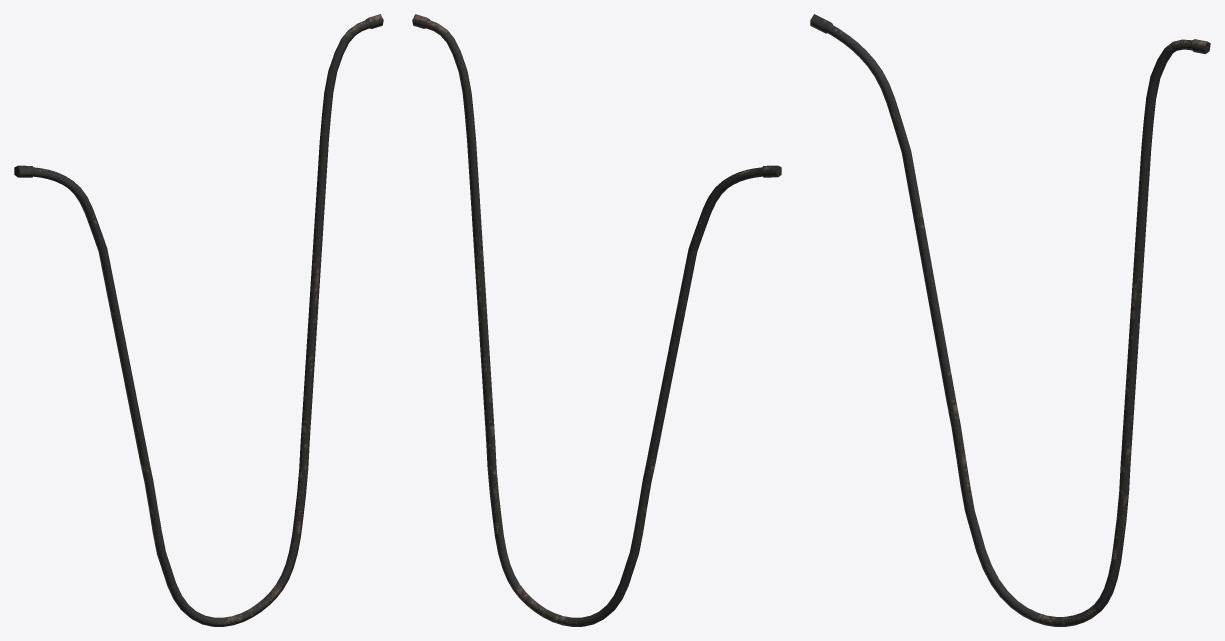
File: plane_wreckage_cable_01.dae
3 renders of one model, left to right at view 1: azimuth 30°, elevation 25°; view 2: azimuth 150°, elevation 25°; view 3: azimuth 330°, elevation 25°, orthographic. The views are drawn at different scales.
Parts seen in each view (by area): view 1: plane_wreckage_cable_01; view 2: plane_wreckage_cable_01; view 3: plane_wreckage_cable_01.
Part boxes in pixels (left/top/right/bottom): plane_wreckage_cable_01: left=14, top=14, right=383, bottom=626; plane_wreckage_cable_01: left=412, top=14, right=781, bottom=626; plane_wreckage_cable_01: left=810, top=14, right=1210, bottom=626.
Size of the model in its own units: 76.12 by 114 by 2.19.
